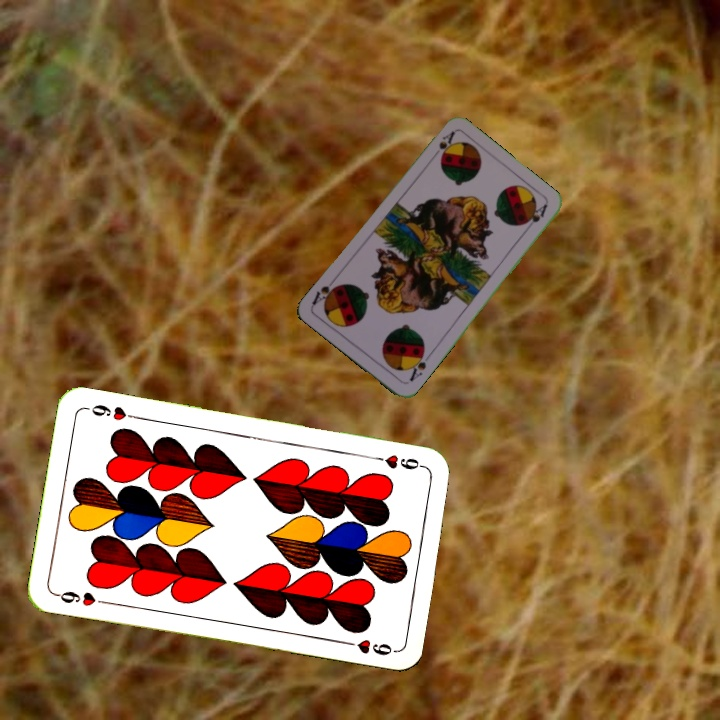H9: (368, 450, 427, 473), (51, 587, 110, 609)
SA: (427, 127, 457, 162), (404, 347, 429, 384)
